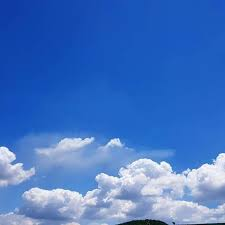sky: (1, 1, 224, 224)
